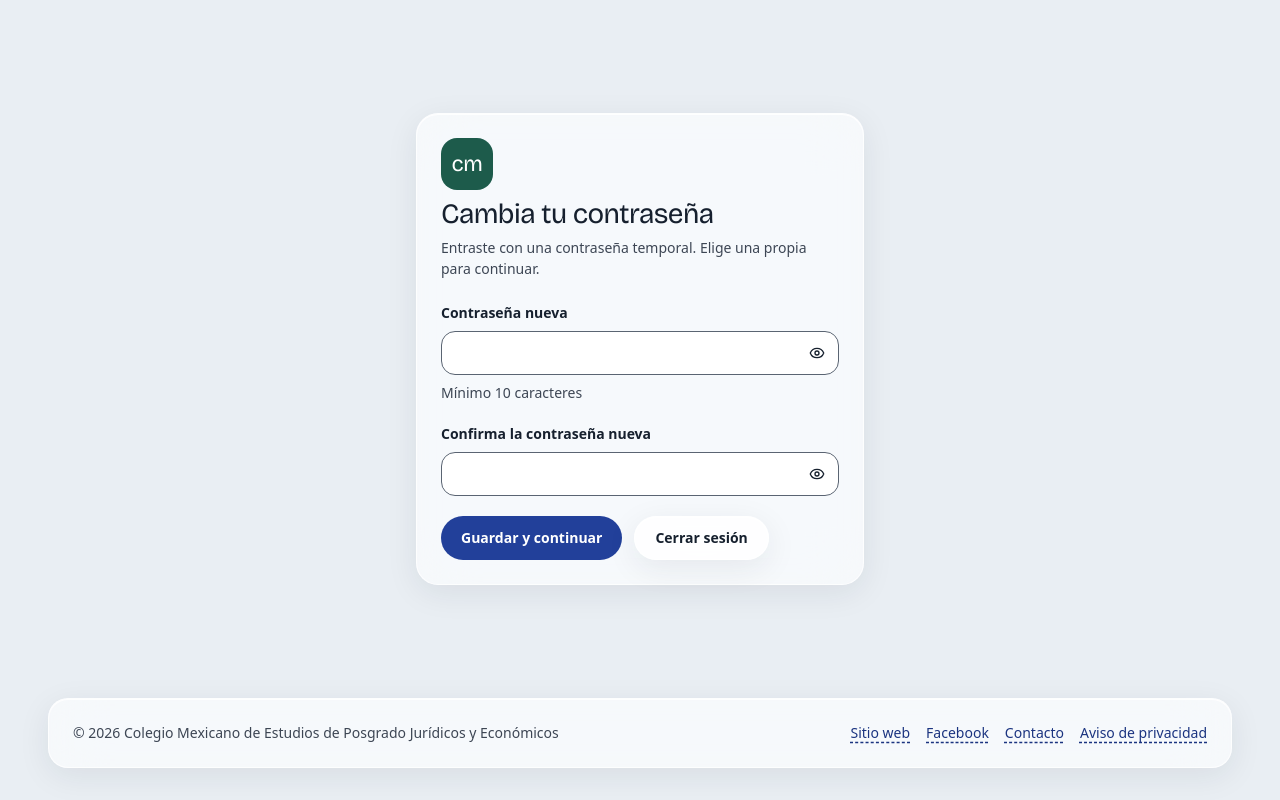
CambiarContrasenaView › con una confirmación distinta no envía nada
Type "clave-nueva-1234" into the password field labelled "Contraseña nueva".
click(640, 353); type("clave-nueva-1234")  # box [441, 331, 839, 375]
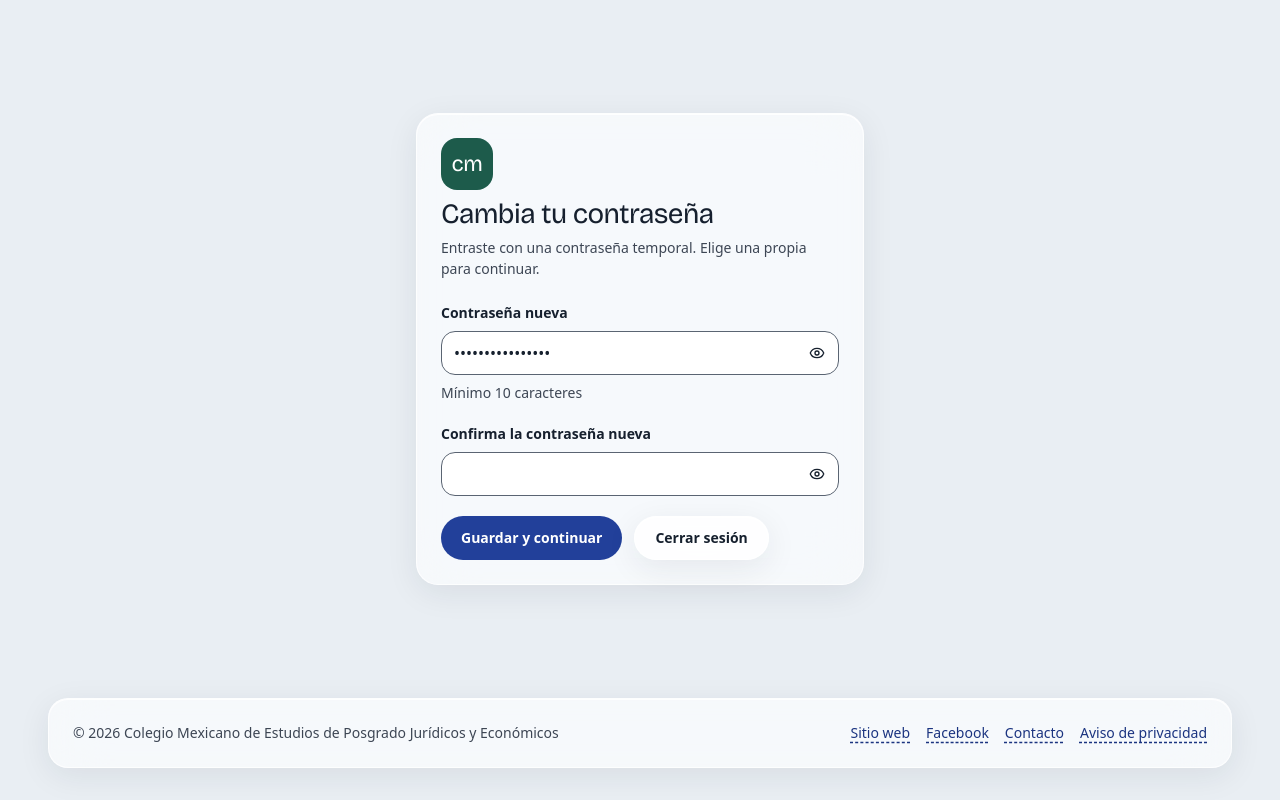
Type "otra-distinta-999" into the password field labelled "Confirma la contraseña nueva".
click(640, 474); type("otra-distinta-999")  # box [441, 452, 839, 496]
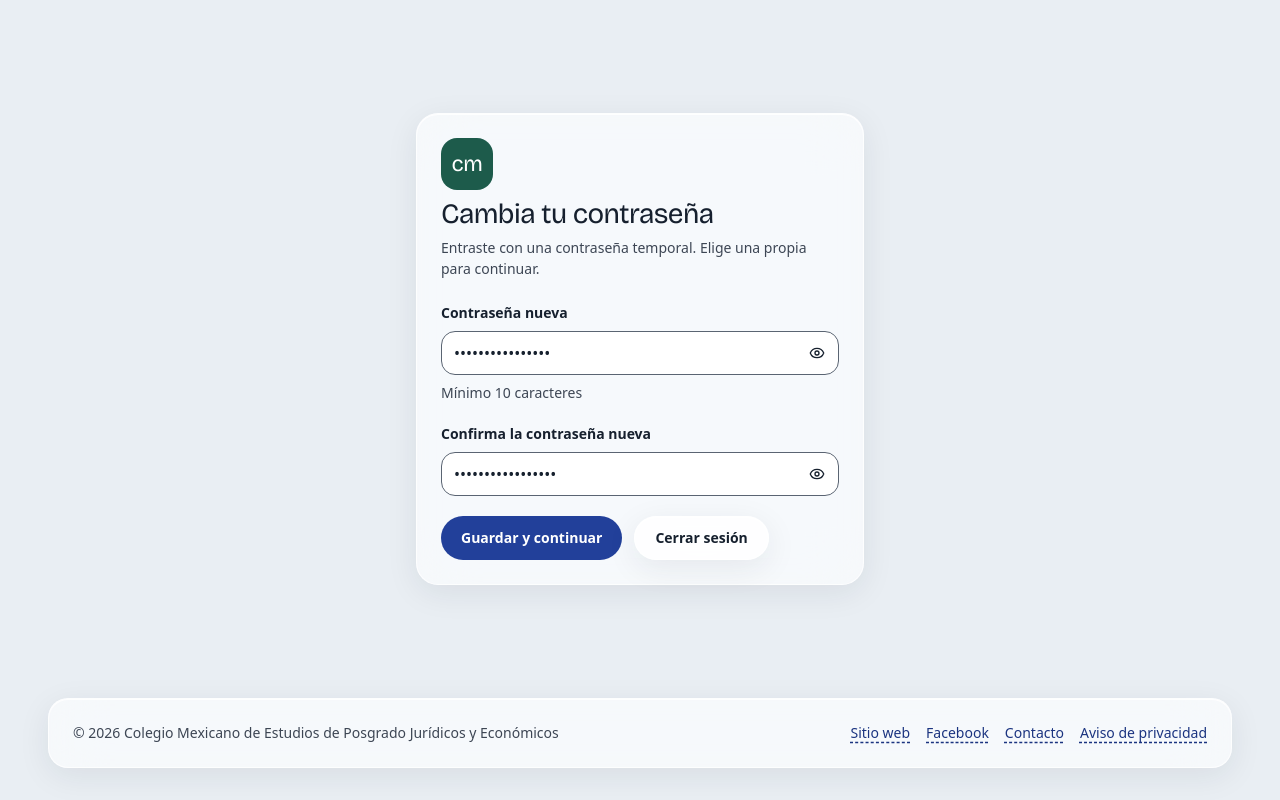
Click the button "Guardar y continuar".
click(532, 538)  # box [441, 516, 622, 560]
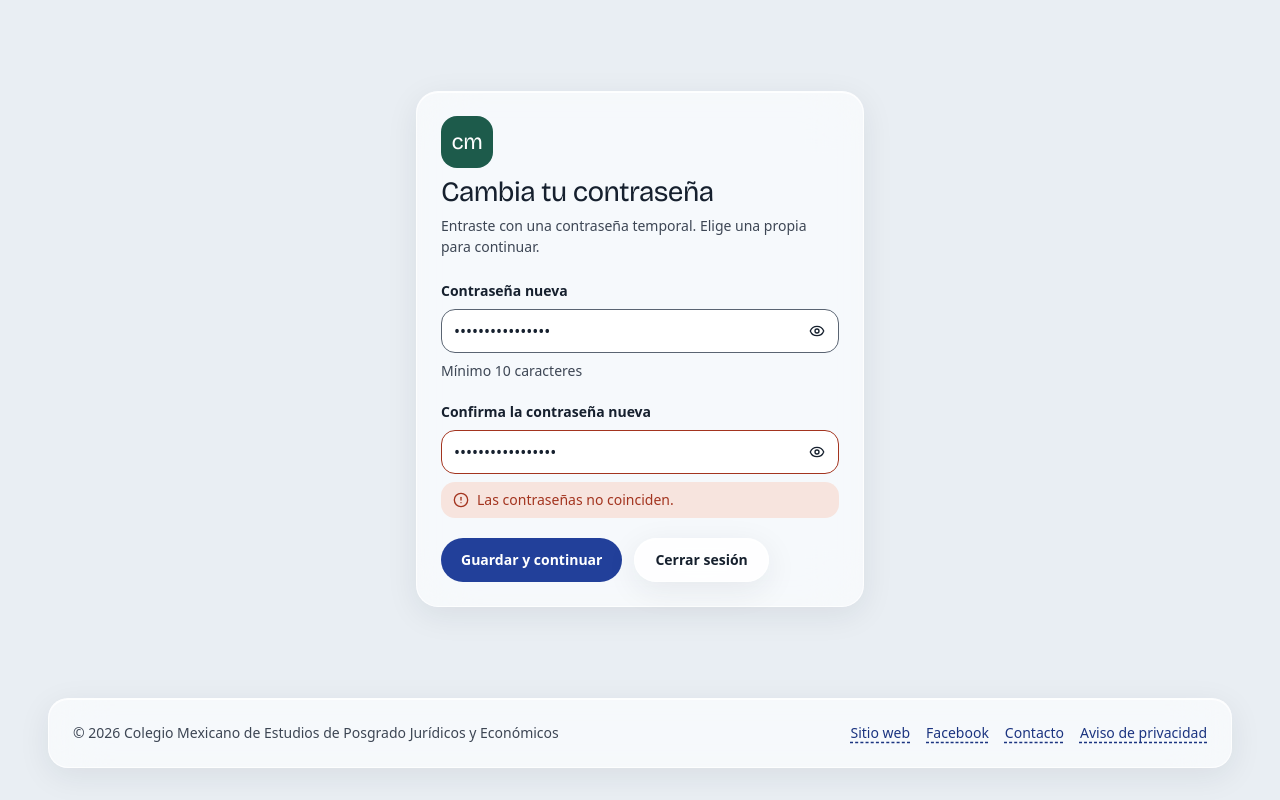
Expected: the text "Las contraseñas no coinciden." is shown, [441, 482, 839, 518]
